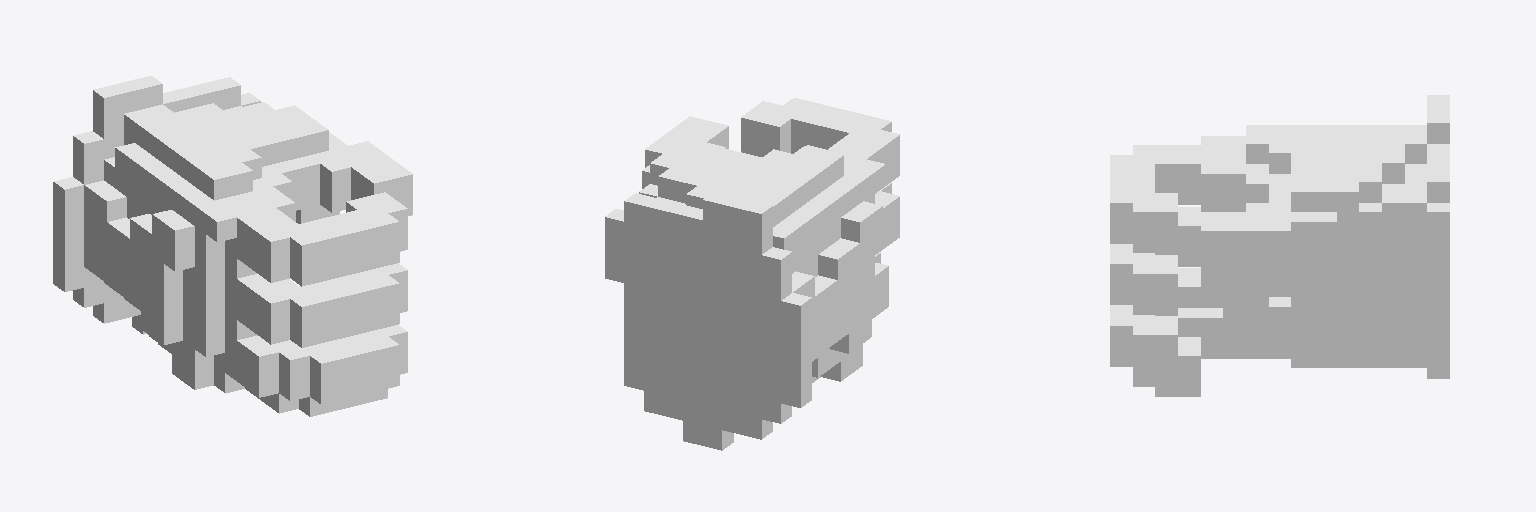
File: Player002.obj
3 renders of one model, left to right at view 1: azimuth 30°, elevation 25°; view 2: azimuth 150°, elevation 25°; view 3: azimuth 270°, elevation 25°, orthographic.
Parts seen in each view (by area): view 1: object 1; view 2: object 1; view 3: object 1.
Part boxes in pixels (left/top/right/bottom): object 1: left=53, top=76, right=412, bottom=416; object 1: left=605, top=98, right=899, bottom=450; object 1: left=1110, top=95, right=1449, bottom=396.
Bounding box in the file's own units: 1.2 × 1.2 × 1.5.